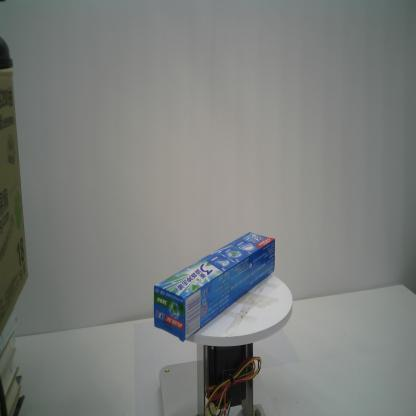Personal Hygiene: (152, 230, 277, 343)
